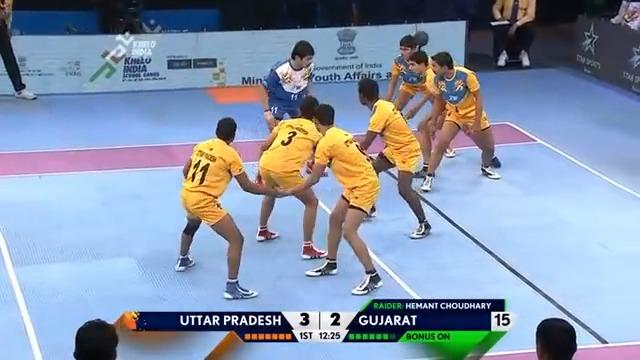Player: (273, 102, 385, 296), (172, 113, 281, 301), (351, 76, 433, 240), (418, 50, 502, 191), (392, 42, 416, 82)
Raider: (257, 39, 330, 98)
referee: (0, 0, 37, 100), (490, 0, 537, 68), (72, 318, 118, 359)
